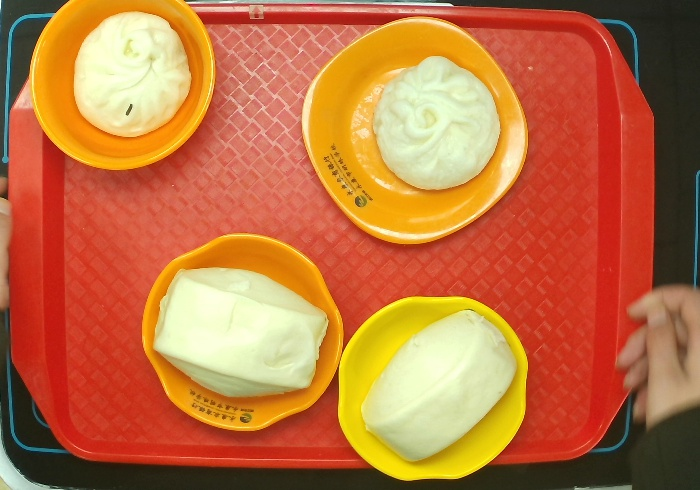YKMZ-Ju_Se_Fang_Die: (302, 15, 528, 244)
